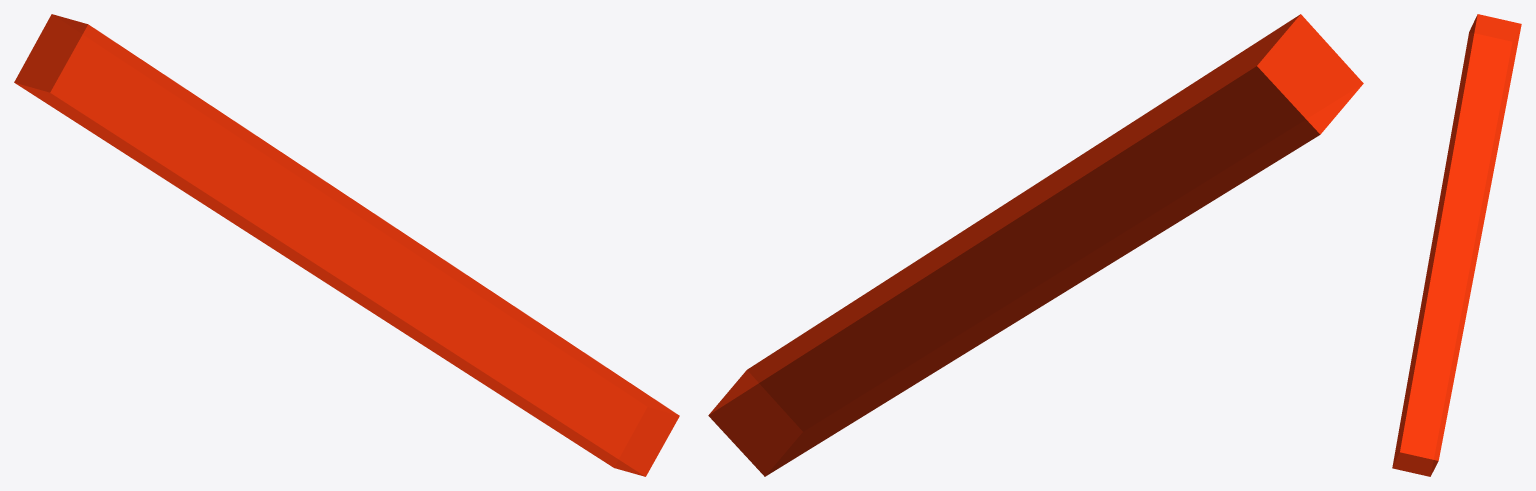
The model's file is Event_420604493_EBrechit_7.fbx.
3 renders of one model, left to right at view 1: azimuth 30°, elevation 25°; view 2: azimuth 150°, elevation 25°; view 3: azimuth 270°, elevation 25°, orthographic. The views are drawn at different scales.
Parts seen in each view (by area): view 1: Model; view 2: Model; view 3: Model.
Part boxes in pixels (x1,y1,x2,y2): Model: (14, 14, 679, 476); Model: (708, 14, 1363, 476); Model: (1392, 14, 1521, 476).
Size of the model in its own units: 0.5567 by 0.4962 by 0.1817.
